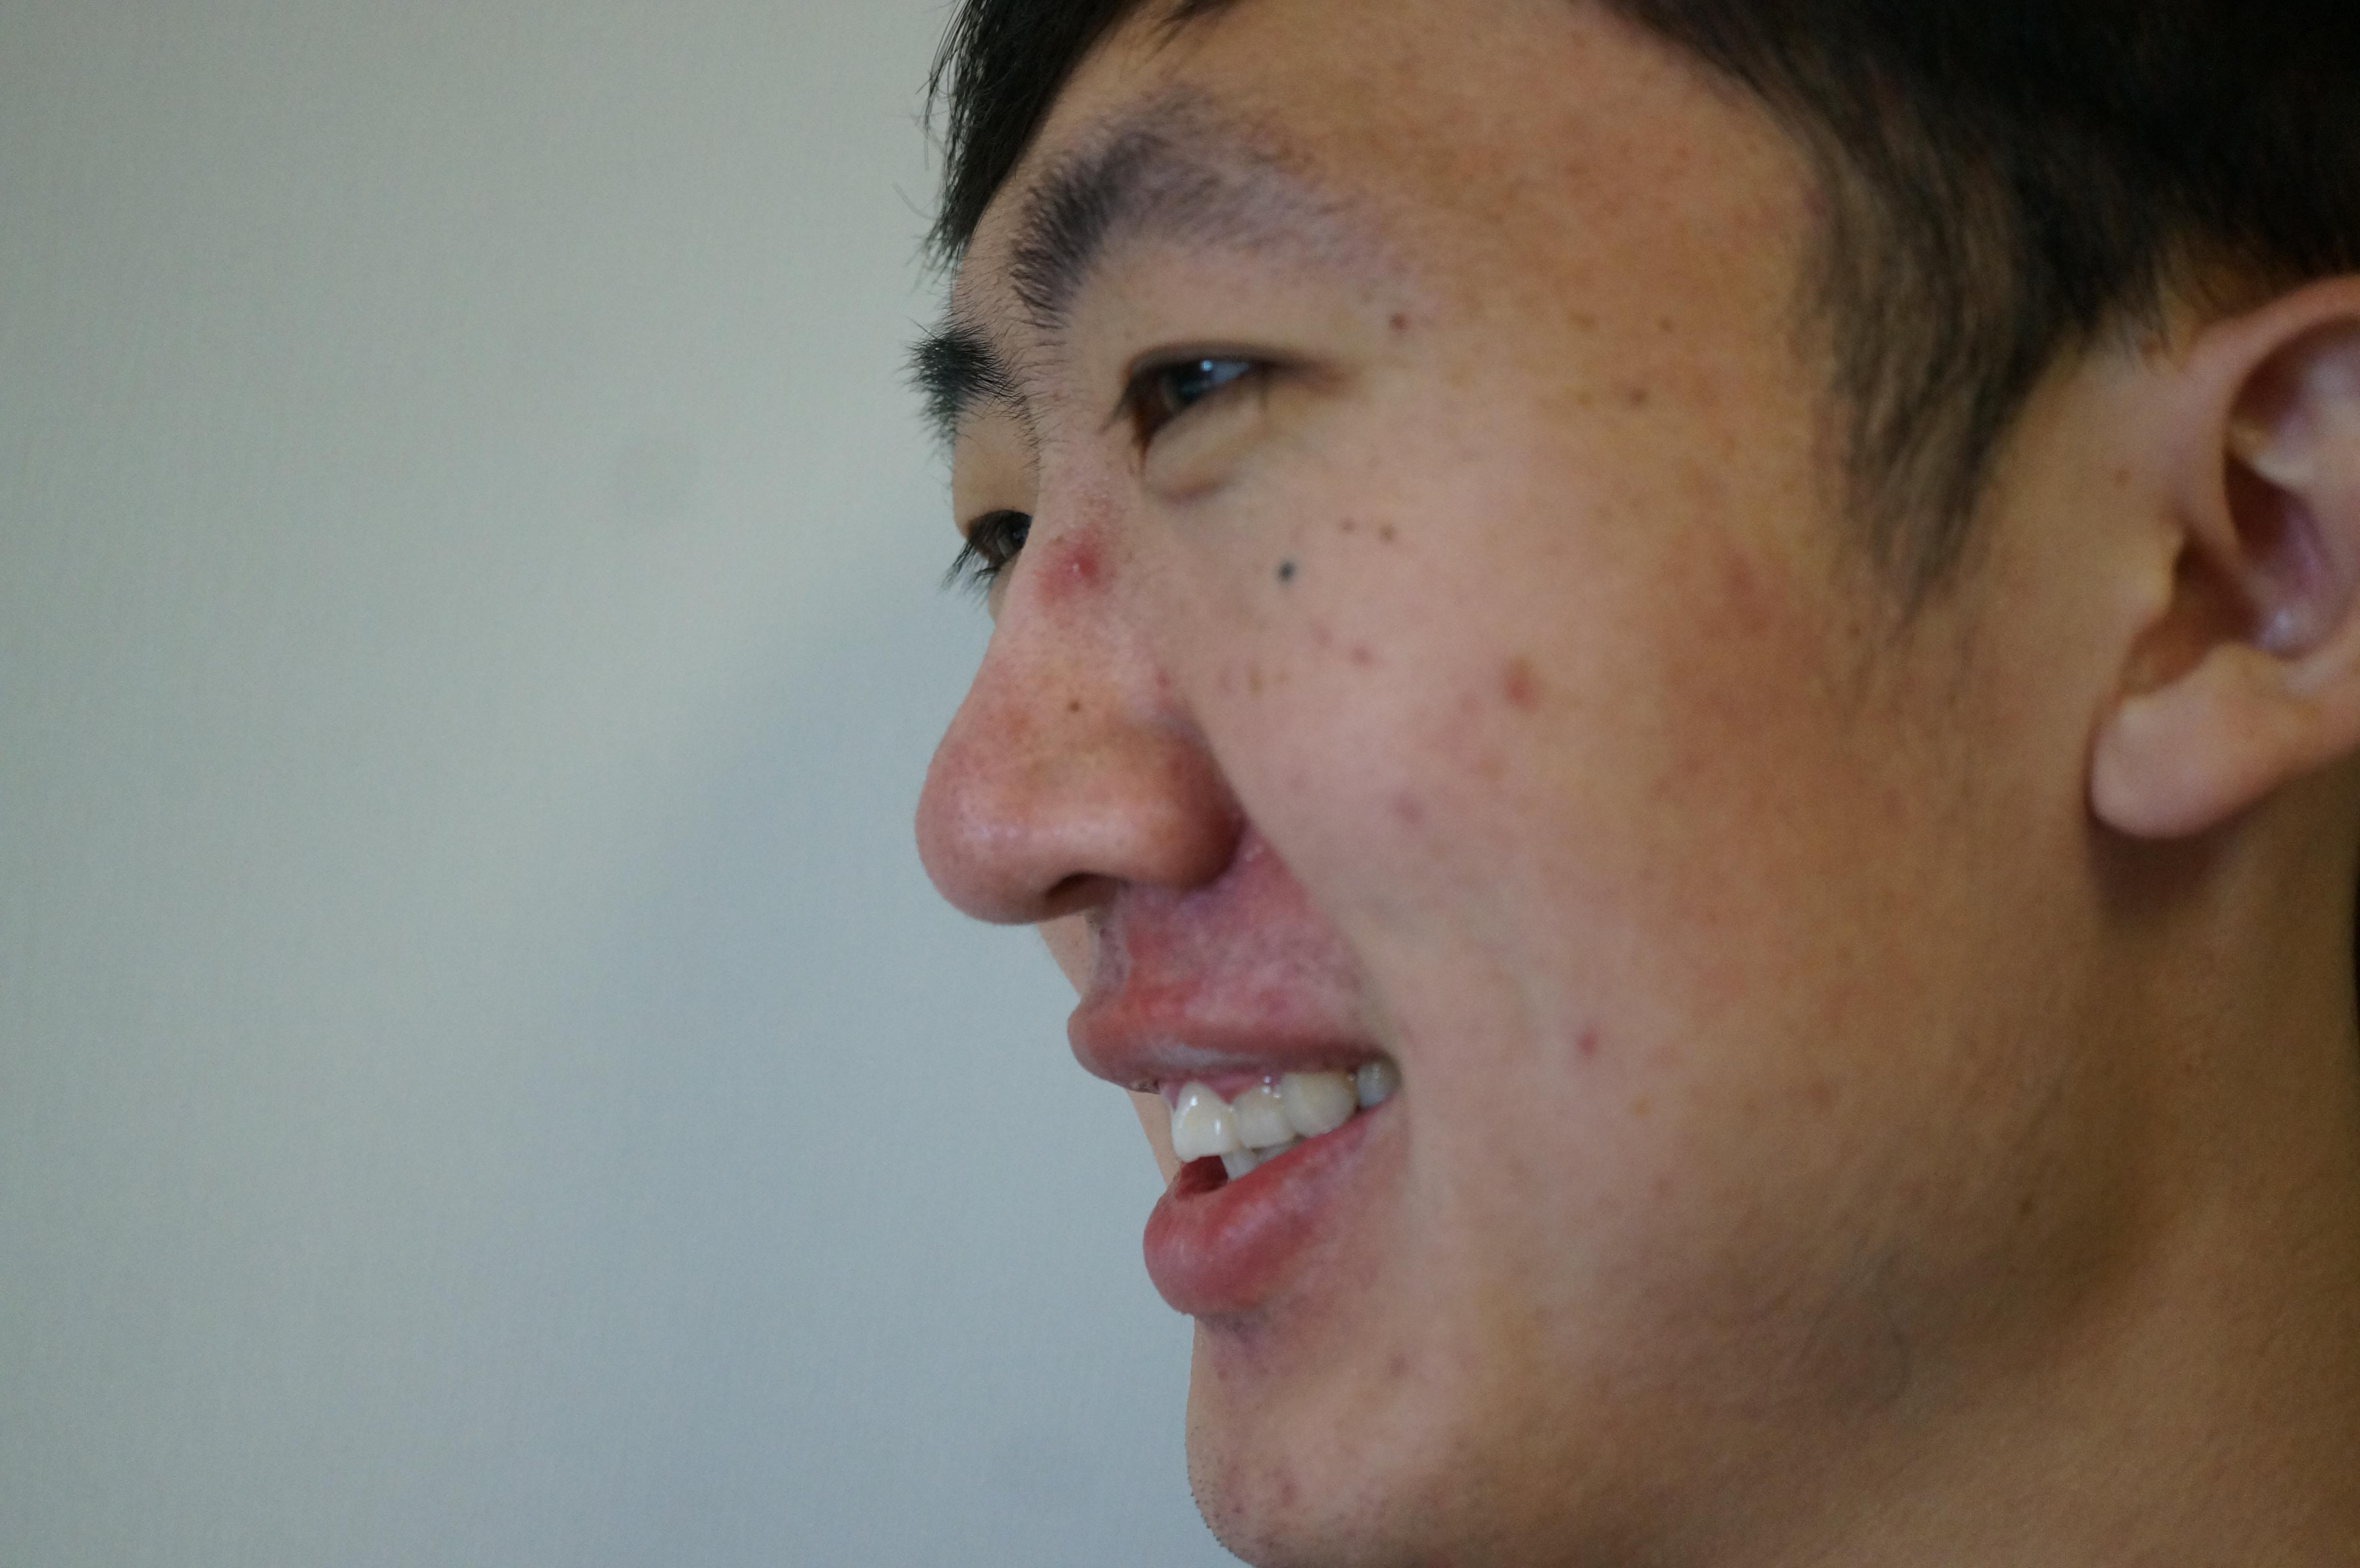fore: (1489, 633, 1552, 744), (1050, 521, 1125, 609)
